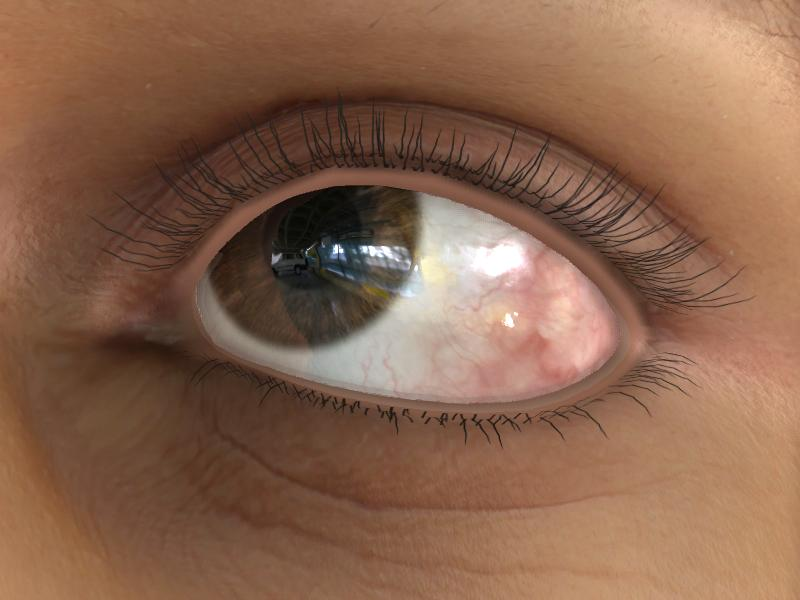eye: (205, 186, 422, 347)
